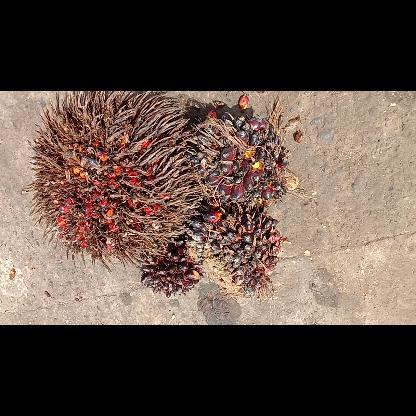TBS abnormal: (184, 107, 302, 210), (184, 200, 282, 304), (138, 239, 202, 299)
Terlalu masak: (18, 90, 207, 274)
